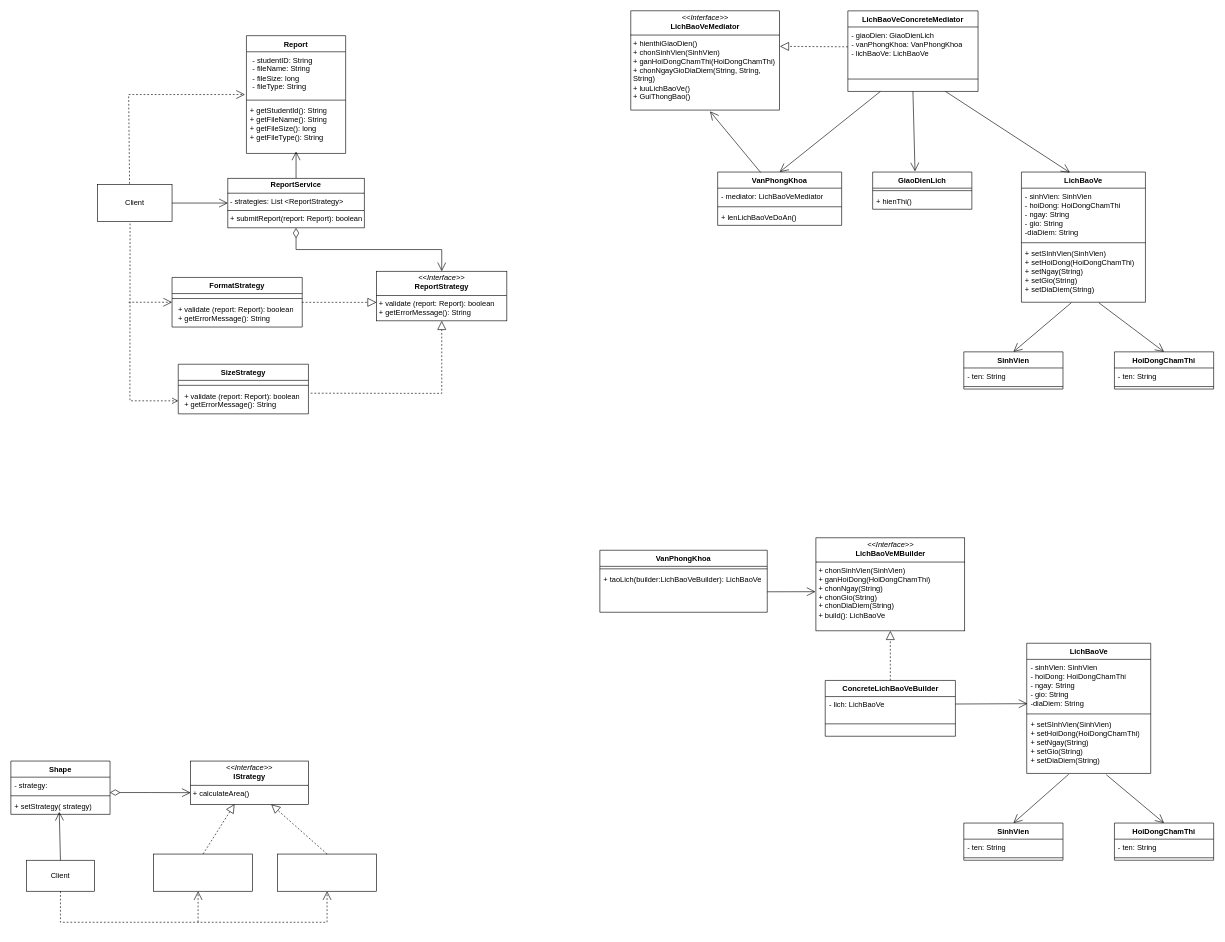
Some shapes in this 1225 by 942 pixel diagram are drawn without their labels. Each missing label, with the centre of its shape:
CircleStrategy + calculateArea(): the point at 203,872
RectangleStrategy + calculateArea(): the point at 327,872
